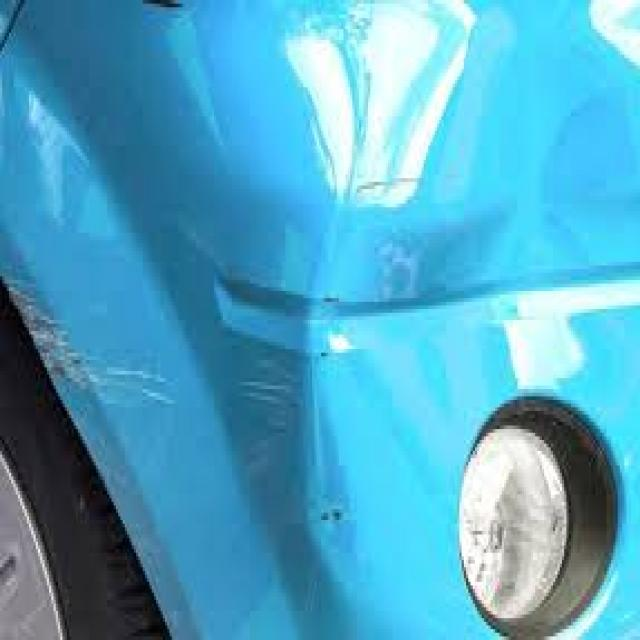minor: (250, 82, 372, 500), (4, 263, 194, 450)
